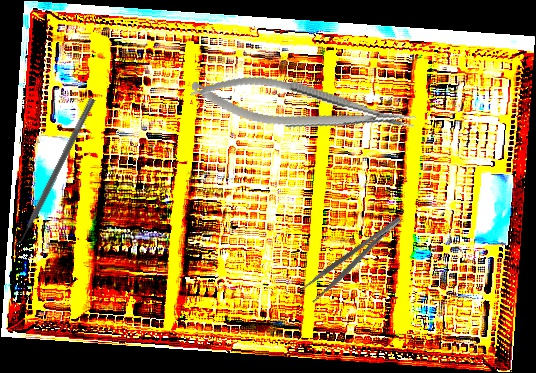Dressing Forceps: (300, 214, 410, 304)
Needle Holder: (187, 62, 419, 153)
Spatula Surgical: (10, 94, 96, 250)
